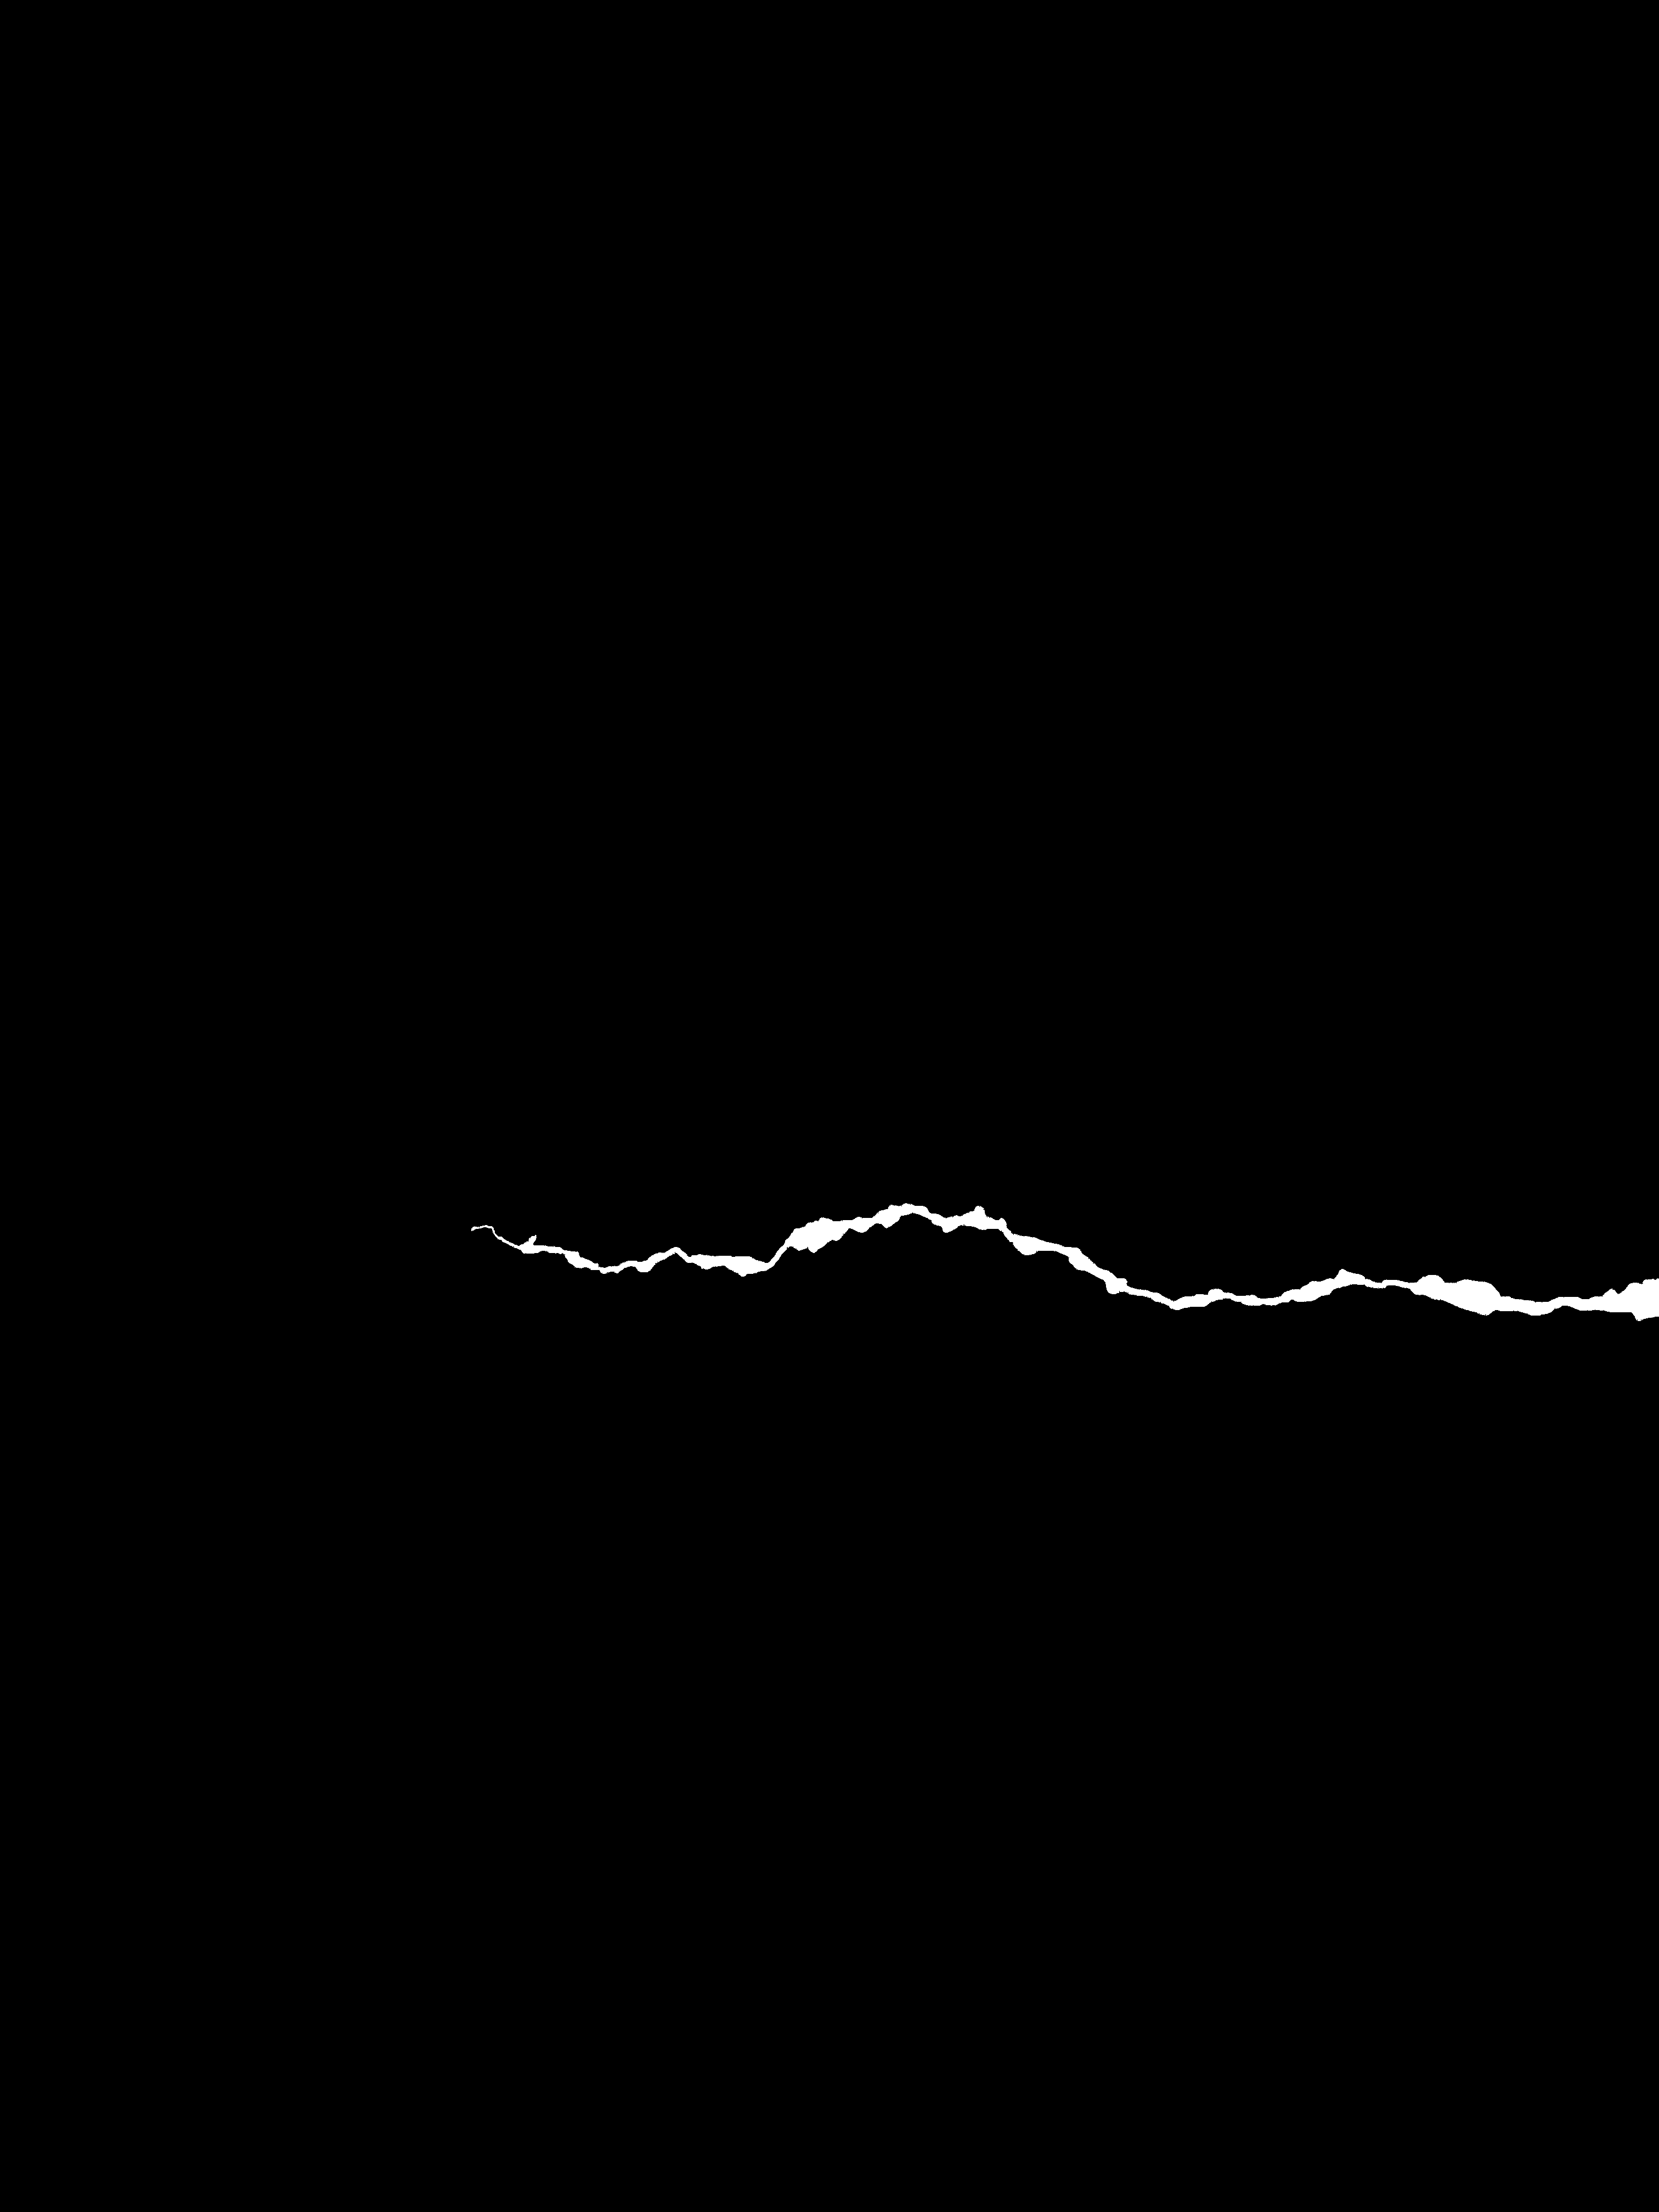Crack: (577, 1174, 1659, 1367)
